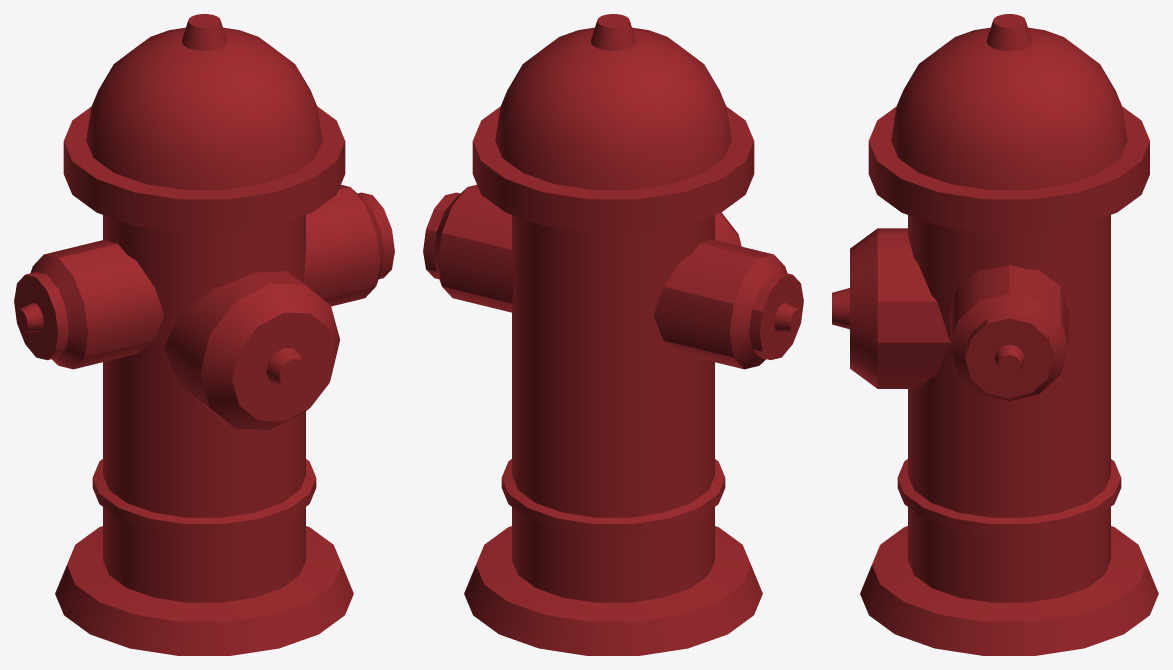
The model's file is hydrant.glb.
3 renders of one model, left to right at view 1: azimuth 30°, elevation 25°; view 2: azimuth 150°, elevation 25°; view 3: azimuth 270°, elevation 25°, orthographic.
Visible parts, largest first — view 1: FireHydrant; view 2: FireHydrant; view 3: FireHydrant.
Boxes of the visible parts, x1,y1,x2,y2 form: FireHydrant: (14, 14, 394, 655); FireHydrant: (423, 14, 803, 655); FireHydrant: (832, 14, 1158, 655).
Bounding box in the file's own units: 0.5151 × 0.7724 × 0.3992.
Materials: 1 (1 with a texture image).
